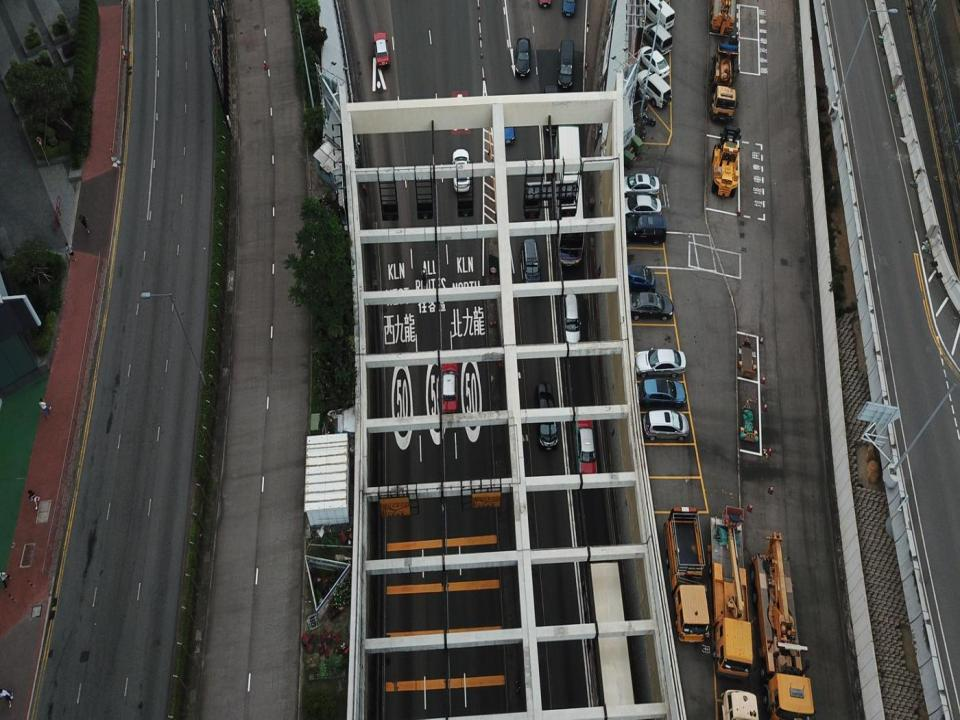bus: (590, 560, 635, 719), (554, 124, 584, 267)
car: (634, 346, 686, 378), (627, 292, 674, 320), (576, 419, 597, 480), (620, 195, 662, 222), (639, 45, 670, 79), (619, 174, 659, 199), (439, 363, 458, 412), (626, 264, 656, 295), (452, 149, 471, 191), (496, 105, 515, 144), (514, 37, 532, 77), (373, 30, 390, 68), (562, 0, 574, 16)
truck: (751, 531, 814, 719), (708, 505, 753, 681), (663, 507, 709, 642), (709, 43, 739, 121), (710, 0, 736, 34)
van: (637, 378, 686, 410), (536, 382, 558, 449), (643, 410, 689, 441), (636, 68, 671, 108), (624, 215, 667, 245), (560, 294, 582, 346), (520, 238, 541, 289), (642, 22, 672, 56), (642, 0, 674, 30), (556, 39, 575, 89), (544, 85, 559, 136)
